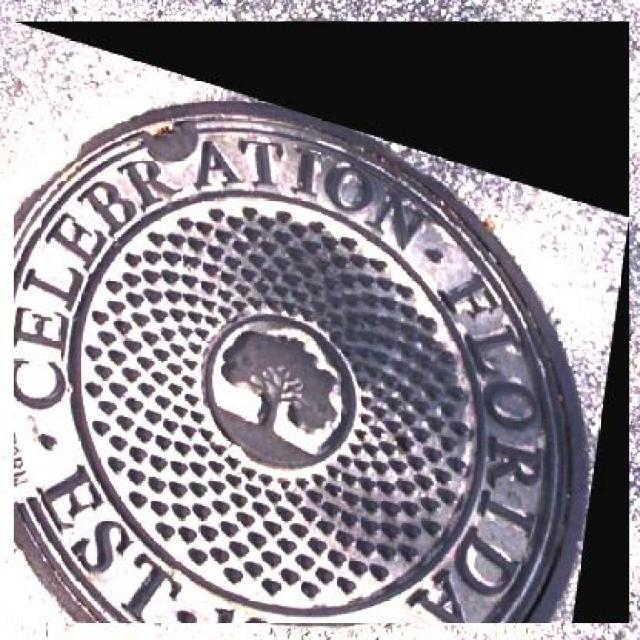Manhole: (13, 21, 630, 624)
